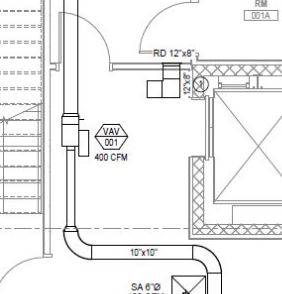VAV: (56, 109, 92, 159)
